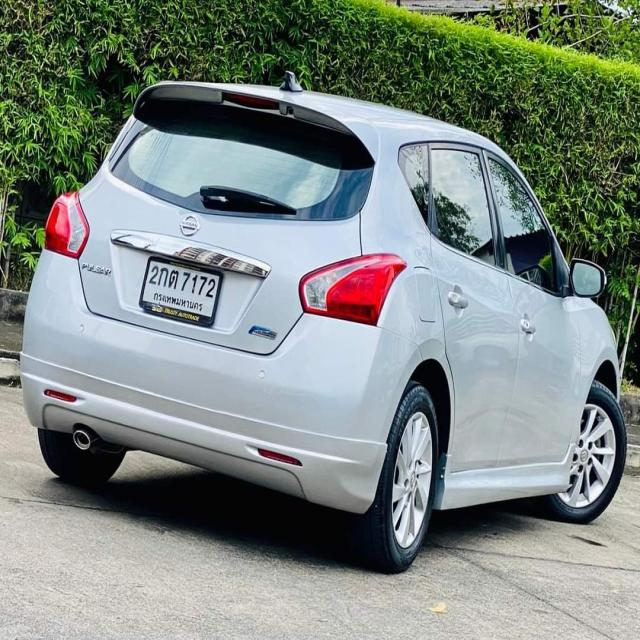license_plate: (138, 250, 224, 328)
